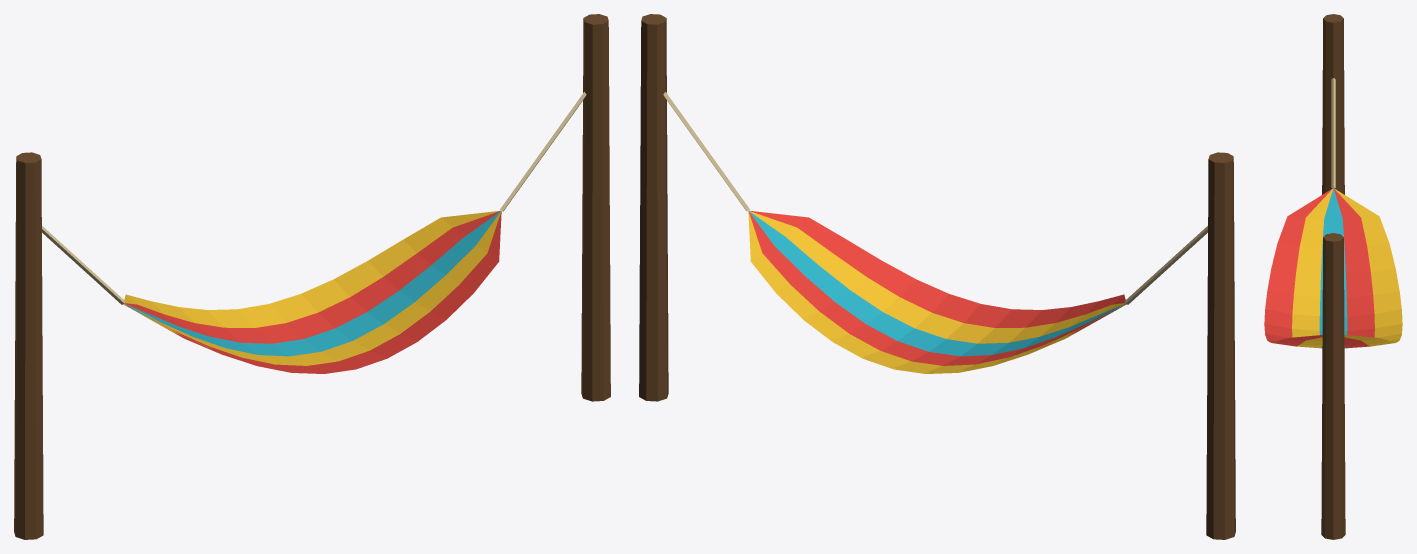
File: Prop_Hammock.fbx
3 renders of one model, left to right at view 1: azimuth 30°, elevation 25°; view 2: azimuth 150°, elevation 25°; view 3: azimuth 270°, elevation 25°, orthographic. The views are drawn at different scales.
Visible parts, largest first — view 1: Prop_Hammock.001; view 2: Prop_Hammock.001; view 3: Prop_Hammock.001.
Boxes of the visible parts, x1=… form: Prop_Hammock.001: x1=14, y1=14, x2=610, y2=539; Prop_Hammock.001: x1=639, y1=14, x2=1235, y2=539; Prop_Hammock.001: x1=1264, y1=14, x2=1402, y2=539.
Bounding box in the file's own units: 3.14 × 1.9 × 0.8.
